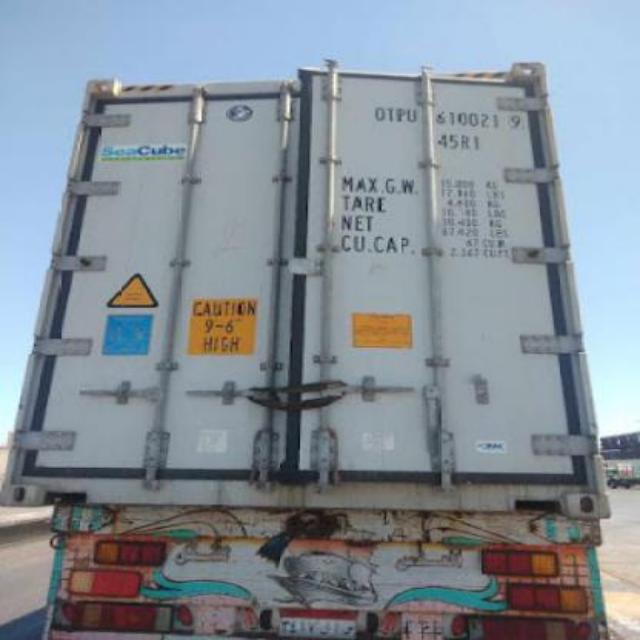0: (456, 111, 468, 129), (470, 111, 480, 129)
1: (448, 110, 456, 126), (492, 113, 500, 129)
2: (480, 111, 490, 132)
6: (434, 110, 448, 126)
9: (510, 114, 522, 132)
O: (374, 105, 386, 123)
P: (394, 108, 406, 122)
T: (384, 105, 398, 121)
U: (406, 107, 419, 123)
